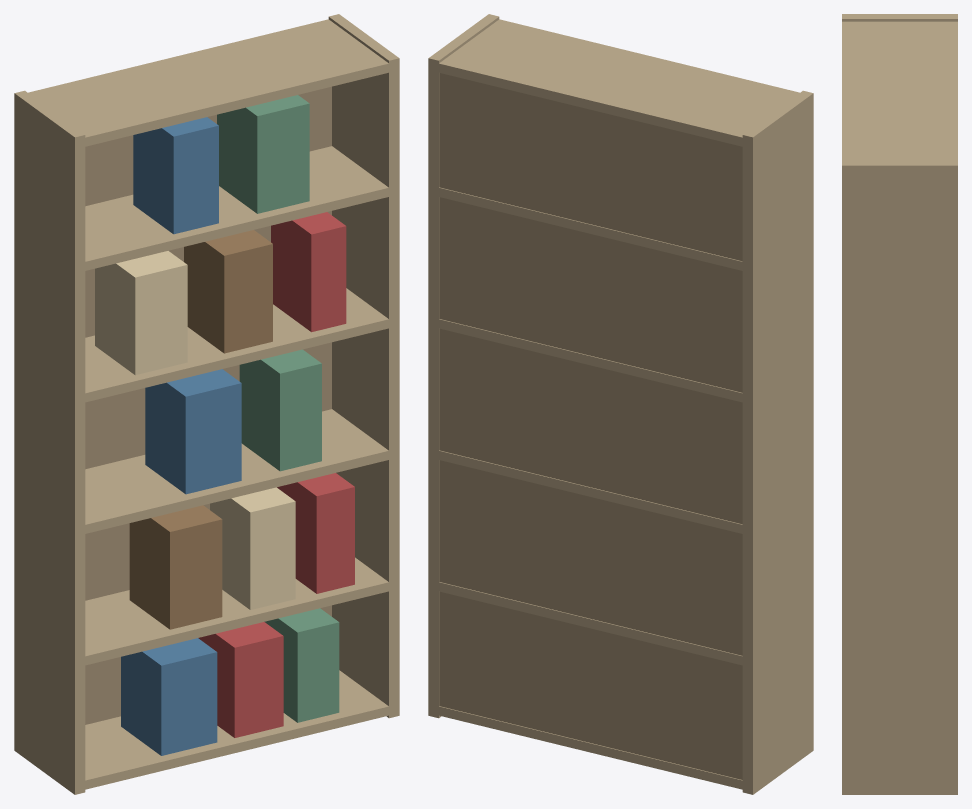
Rendered from bookshelf.glb.
3 renders of one model, left to right at view 1: azimuth 30°, elevation 25°; view 2: azimuth 150°, elevation 25°; view 3: azimuth 270°, elevation 25°, orthographic. The views are drawn at different scales.
Visible parts, largest first — view 1: part_0, part_1, part_7, part_8, part_4, part_6, part_15, part_12, part_18, part_10, part_3, part_17 (+10 smaller); view 2: part_8, part_0, part_7, part_1, part_3, part_2, part_5, part_4, part_6; view 3: part_1, part_7, part_0, part_4, part_2, part_5.
Boxes of the visible parts, x1,y1,x2,y2 form: part_0: [14, 90, 85, 794]; part_1: [328, 14, 399, 718]; part_7: [14, 19, 398, 148]; part_8: [85, 86, 331, 724]; part_4: [14, 409, 399, 534]; part_6: [15, 146, 397, 272]; part_15: [145, 369, 241, 494]; part_12: [129, 505, 222, 629]; part_18: [95, 251, 187, 375]; part_10: [121, 638, 217, 755]; part_3: [14, 557, 389, 667]; part_17: [184, 230, 272, 353]; part_8: [439, 73, 742, 779]; part_0: [742, 90, 813, 794]; part_7: [428, 19, 813, 148]; part_1: [428, 14, 499, 718]; part_3: [439, 582, 813, 667]; part_2: [439, 706, 813, 789]; part_5: [428, 319, 813, 404]; part_4: [428, 448, 813, 533]; part_6: [439, 187, 812, 272]; part_1: [842, 160, 957, 794]; part_7: [842, 21, 957, 176]; part_0: [842, 14, 957, 21]; part_4: [842, 539, 957, 547]; part_2: [842, 783, 957, 788]; part_5: [842, 413, 957, 421].
Bounding box in the file's own units: 0.93 × 1.8 × 0.3.
